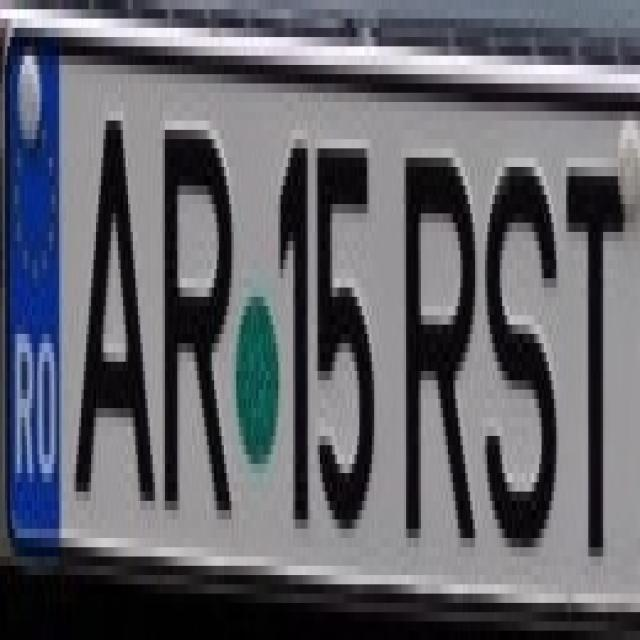1: (253, 102, 316, 529)
5: (305, 121, 379, 528)
A: (64, 93, 153, 501)
S: (468, 130, 564, 548)
T: (556, 139, 628, 557)
